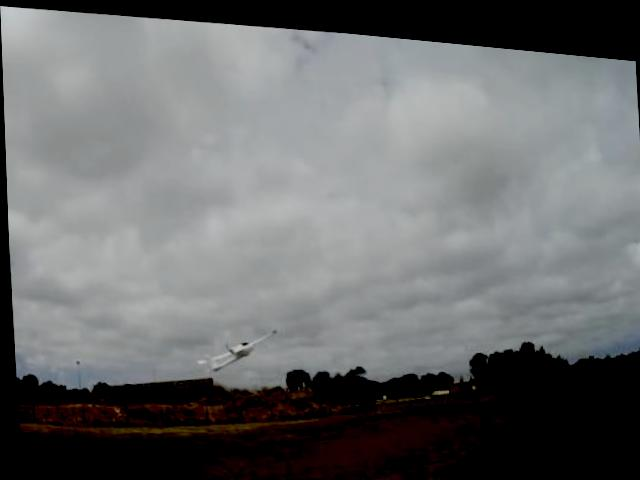uav: (191, 303, 284, 386)
